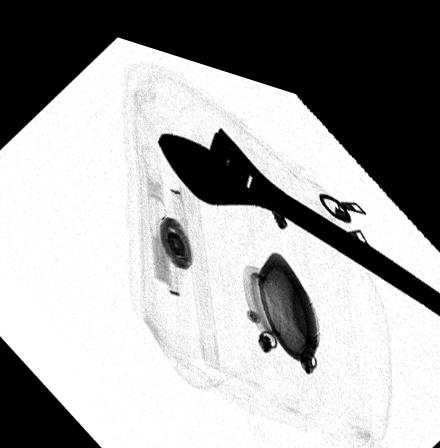Wrench: (155, 110, 440, 287)
